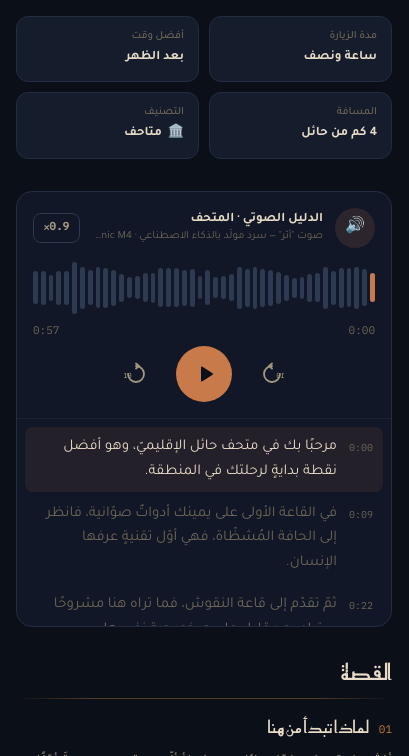
Test: شاشة تفاصيل الموقع › يبدّل المشغّل بين التشغيل والإيقاف
(page scrolled)
Click the button named "تشغيل السرد": (204, 374) [176,346,232,402]
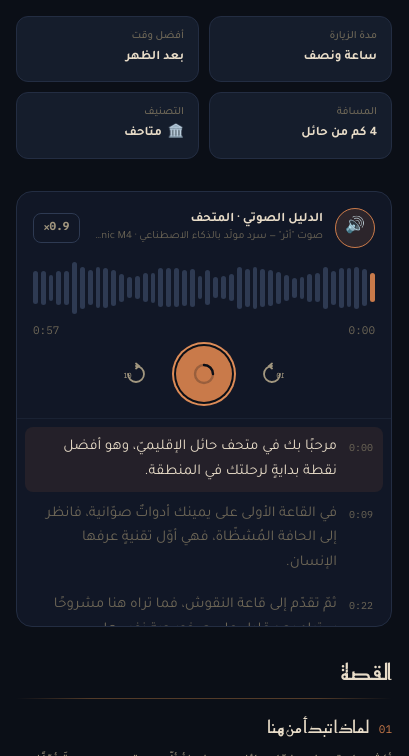
Expected: the button named "إيقاف مؤقت" is shown
Click the button named "إيقاف مؤقت": (204, 374) [176,346,232,402]
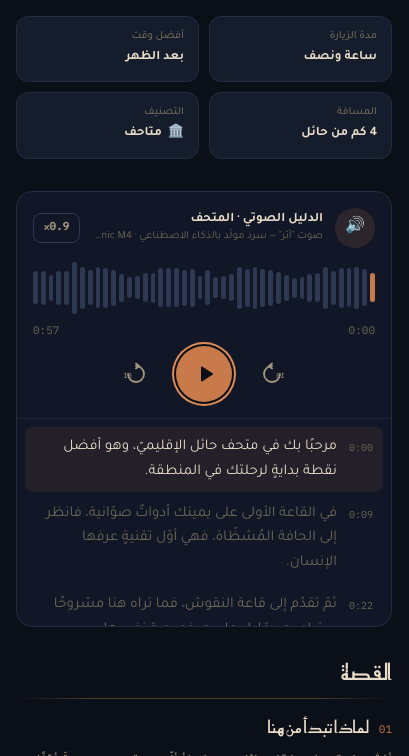
Expected: the button named "تشغيل السرد" is shown, [176,346,232,402]
